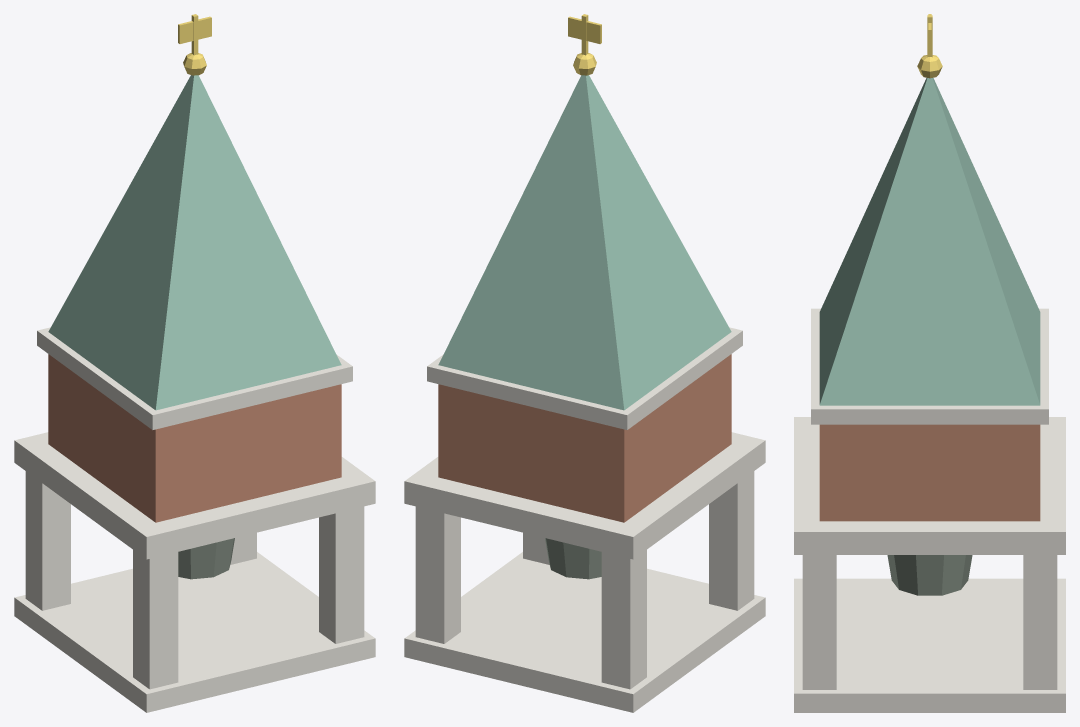
File: VN_CampanileTop.fbx
3 renders of one model, left to right at view 1: azimuth 30°, elevation 25°; view 2: azimuth 150°, elevation 25°; view 3: azimuth 270°, elevation 25°, orthographic. The views are drawn at different scales.
Visible parts, largest first — view 1: VN_CampanileTop; view 2: VN_CampanileTop; view 3: VN_CampanileTop.
Part boxes in pixels (bbox=[...]): VN_CampanileTop: bbox=[14, 14, 375, 712]; VN_CampanileTop: bbox=[404, 14, 765, 712]; VN_CampanileTop: bbox=[794, 14, 1065, 712].
Bounding box in the file's own units: 6.4 × 16.6 × 6.4.
